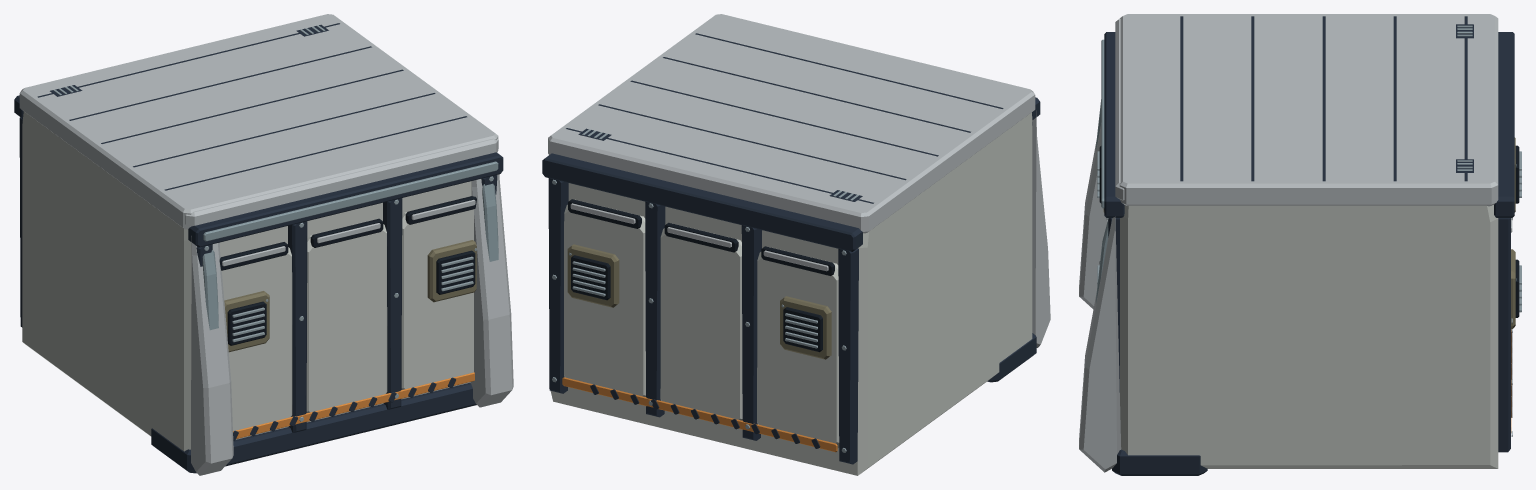
Rendered from wall_segment.glb.
3 views of the same model, side by side, from view 1: azimuth 30°, elevation 25°; view 2: azimuth 150°, elevation 25°; view 3: azimuth 270°, elevation 25° (orthographic). The views are drawn at different scales.
Visible parts, largest first — view 1: wall_segment; view 2: wall_segment; view 3: wall_segment.
Part boxes in pixels (box(x1,y1,x2,y2)): wall_segment: box(14, 14, 513, 475); wall_segment: box(542, 14, 1050, 475); wall_segment: box(1079, 14, 1521, 475).
Size of the model in its own units: 3.99 by 3.18 by 4.33.
